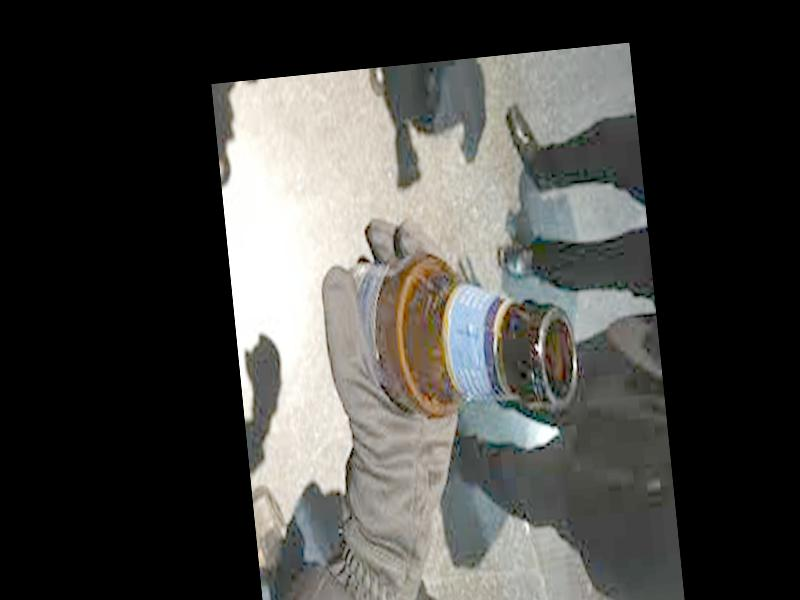Beer: (332, 231, 582, 432)
